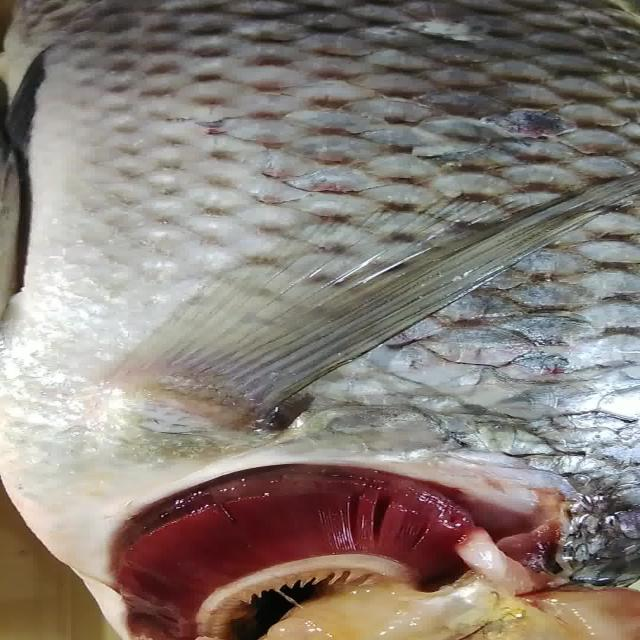Fresh: (156, 21, 640, 445), (71, 465, 472, 640)
